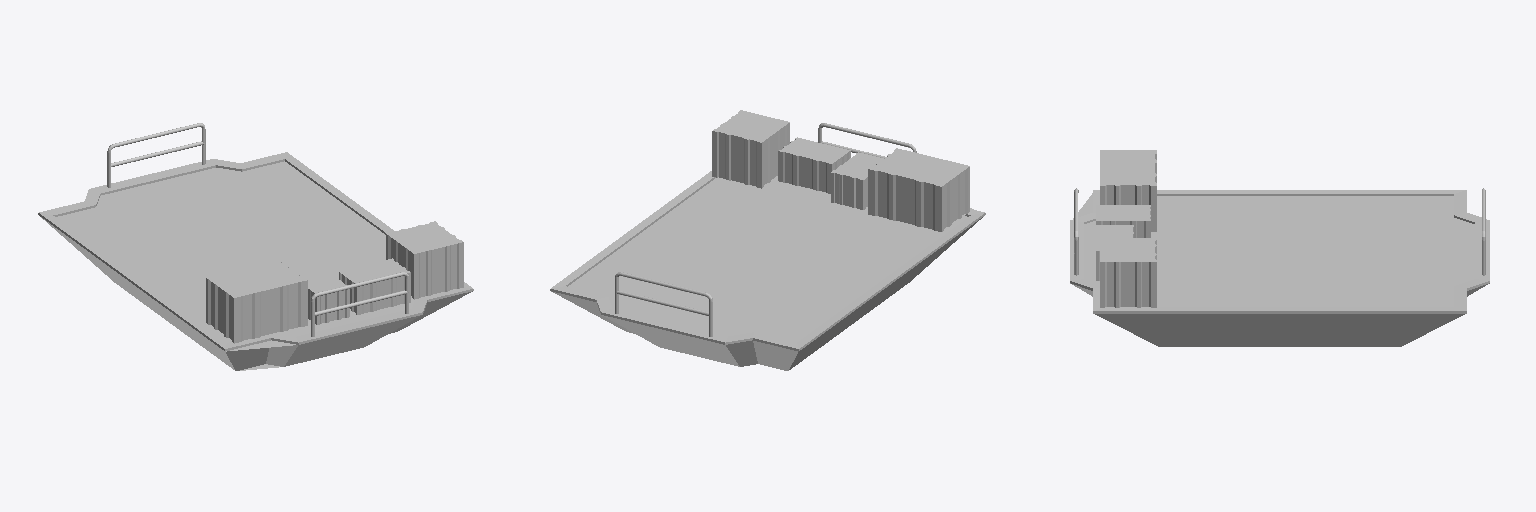
The model's file is barge.obj.
The picture shows the model from 3 angles: view 1: azimuth 30°, elevation 25°; view 2: azimuth 150°, elevation 25°; view 3: azimuth 270°, elevation 25°; orthographic projection.
Visible parts, largest first — view 1: Coque_Cube, Caisse_4_Plane.003, Caisse_1_Plane.001, Caisse_2_Plane.002, Caisse_3_Plane.004, Barrière_1_Cylinder, Barrière_2_Cylinder.002; view 2: Coque_Cube, Caisse_4_Plane.003, Caisse_1_Plane.001, Caisse_2_Plane.002, Caisse_3_Plane.004, Barrière_2_Cylinder.002, Barrière_1_Cylinder; view 3: Coque_Cube, Caisse_1_Plane.001, Caisse_4_Plane.003, Caisse_3_Plane.004, Caisse_2_Plane.002.
Part boxes in pixels (left/top/right/bottom): Coque_Cube: left=38, top=152, right=473, bottom=370; Caisse_4_Plane.003: left=206, top=259, right=307, bottom=343; Caisse_1_Plane.001: left=386, top=221, right=463, bottom=299; Caisse_2_Plane.002: left=339, top=258, right=410, bottom=314; Caisse_3_Plane.004: left=299, top=267, right=349, bottom=324; Barrière_1_Cylinder: left=311, top=272, right=408, bottom=336; Barrière_2_Cylinder.002: left=107, top=123, right=205, bottom=187; Coque_Cube: left=550, top=171, right=985, bottom=370; Caisse_4_Plane.003: left=868, top=148, right=969, bottom=231; Caisse_1_Plane.001: left=712, top=110, right=789, bottom=188; Caisse_2_Plane.002: left=778, top=137, right=850, bottom=193; Caisse_3_Plane.004: left=831, top=152, right=883, bottom=209; Barrière_2_Cylinder.002: left=615, top=272, right=712, bottom=336; Barrière_1_Cylinder: left=818, top=123, right=916, bottom=158; Coque_Cube: left=1070, top=190, right=1489, bottom=346; Caisse_1_Plane.001: left=1100, top=238, right=1156, bottom=307; Caisse_4_Plane.003: left=1100, top=150, right=1156, bottom=231; Caisse_3_Plane.004: left=1096, top=205, right=1150, bottom=237; Caisse_2_Plane.002: left=1096, top=225, right=1133, bottom=280.
Bounding box in the file's own units: 4.47 × 1.76 × 6.54.